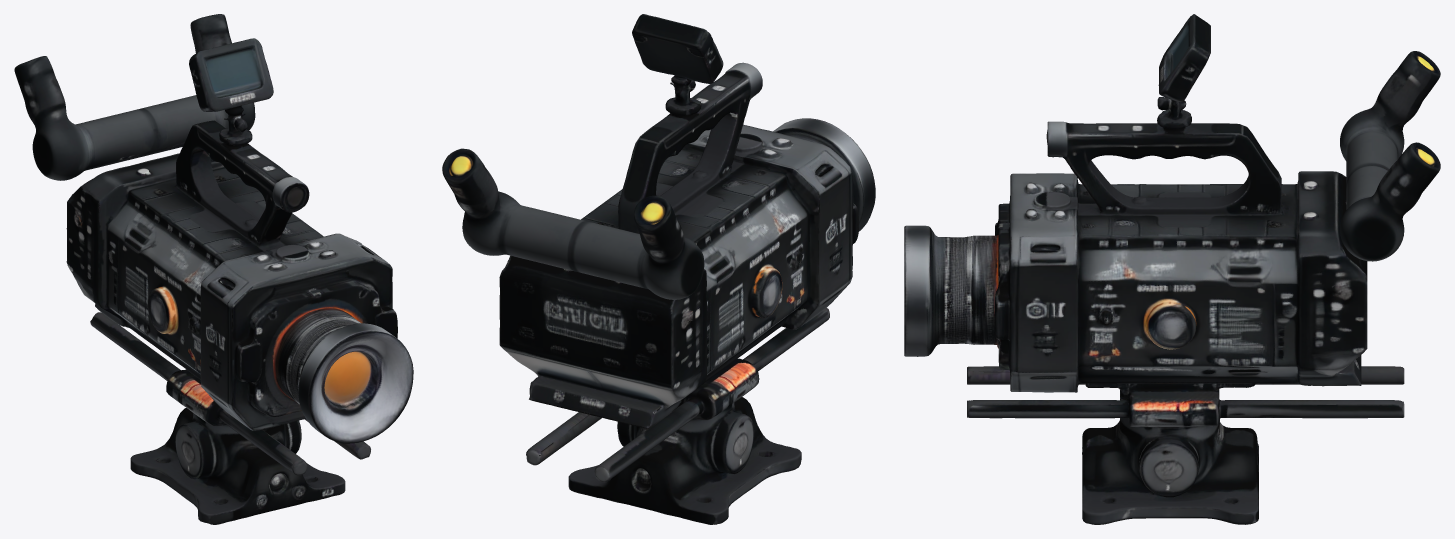
Rendered from hero-rig.glb.
The picture shows the model from 3 angles, left to right: view 1: azimuth 30°, elevation 25°; view 2: azimuth 150°, elevation 25°; view 3: azimuth 270°, elevation 25°; orthographic projection. The views are drawn at different scales.
Parts seen in each view (by area): view 1: model; view 2: model; view 3: model.
Boxes of the visible parts, left/top/right/bottom form: model: left=14, top=14, right=413, bottom=524; model: left=442, top=14, right=875, bottom=524; model: left=904, top=14, right=1440, bottom=524.
Bounding box in the file's own units: 0.9109 × 1.79 × 1.9.
1 material, 1 textured.
